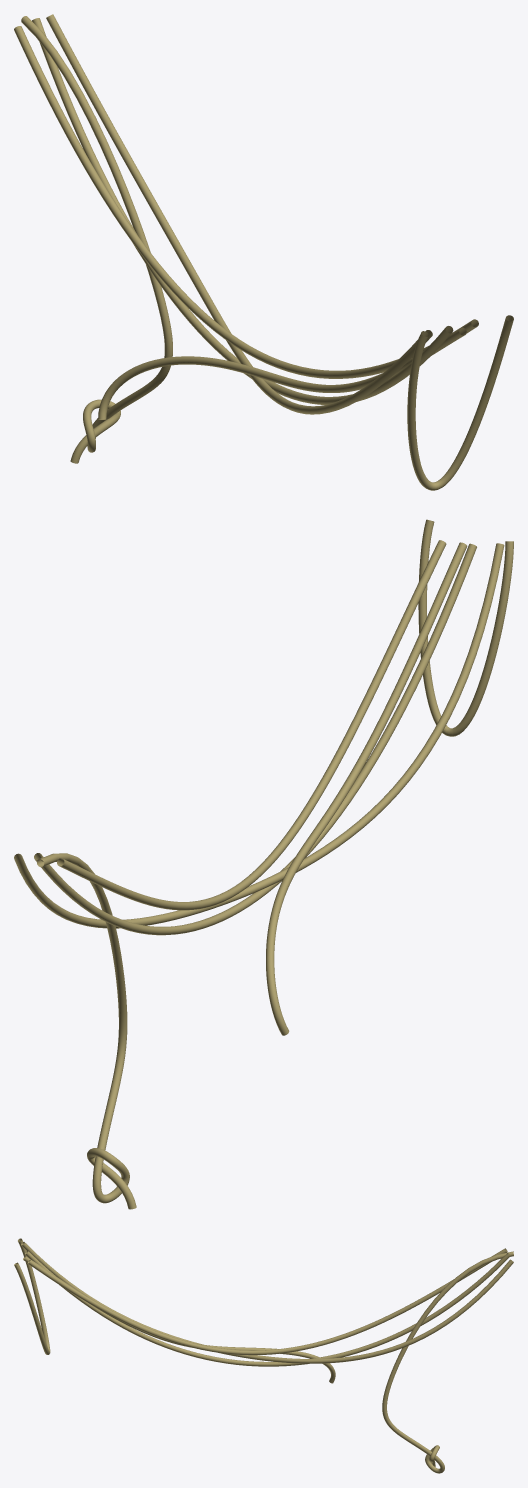
The model's file is fibre.glb.
The picture shows the model from 3 angles, top to bottom: view 1: azimuth 30°, elevation 25°; view 2: azimuth 150°, elevation 25°; view 3: azimuth 270°, elevation 25°; orthographic projection. The views are drawn at different scales.
Visible parts, largest first — view 1: NurbsPath; view 2: NurbsPath; view 3: NurbsPath.
Boxes of the visible parts, x1,y1,x2,y2 form: NurbsPath: (14, 14, 513, 490); NurbsPath: (14, 519, 513, 1209); NurbsPath: (14, 1238, 513, 1473).
Bounding box in the file's own units: 0.7662 × 2.08 × 4.15.
